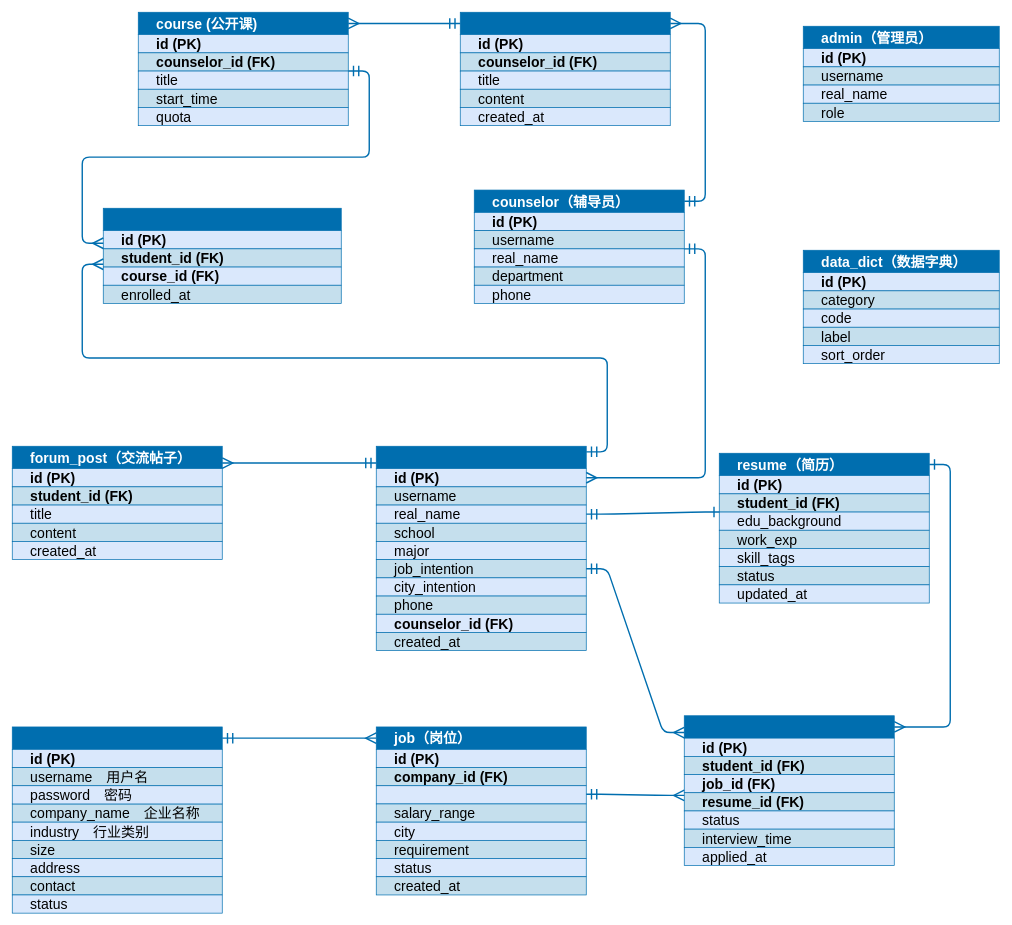
Some shapes in this 1012 by 925 pixel diagram are drawn without their labels. Here are the shapes that lost their labels. From the top down, the box of each, then its label:
(460, 12, 670, 35): guidance_post（指导帖子）
(103, 208, 341, 231): course_enrollment（课程报名）
(376, 446, 586, 469): student（学生）
(12, 726, 222, 749): company（企业）
(684, 715, 894, 738): application（应聘记录）
(376, 785, 586, 804): job_name
